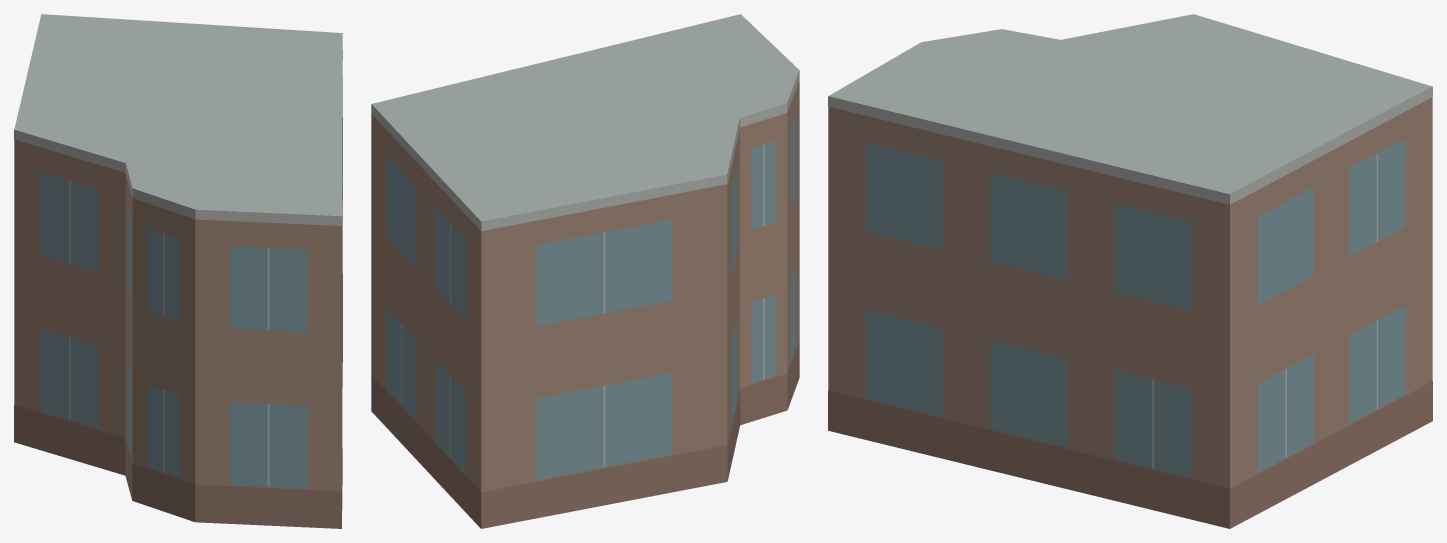
File: survey-upis-32631090.glb
3 views of the same model, side by side, from view 1: azimuth 30°, elevation 25°; view 2: azimuth 150°, elevation 25°; view 3: azimuth 270°, elevation 25° (orthographic). The views are drawn at different scales.
Parts seen in each view (by area): view 1: survey-upis-32631090.tmp; view 2: survey-upis-32631090.tmp; view 3: survey-upis-32631090.tmp.
Boxes of the visible parts, left/top/right/bottom form: survey-upis-32631090.tmp: left=14, top=14, right=342, bottom=528; survey-upis-32631090.tmp: left=371, top=14, right=799, bottom=528; survey-upis-32631090.tmp: left=828, top=14, right=1432, bottom=528.
Bounding box in the file's own units: 9.03 × 7.8 × 12.79.
